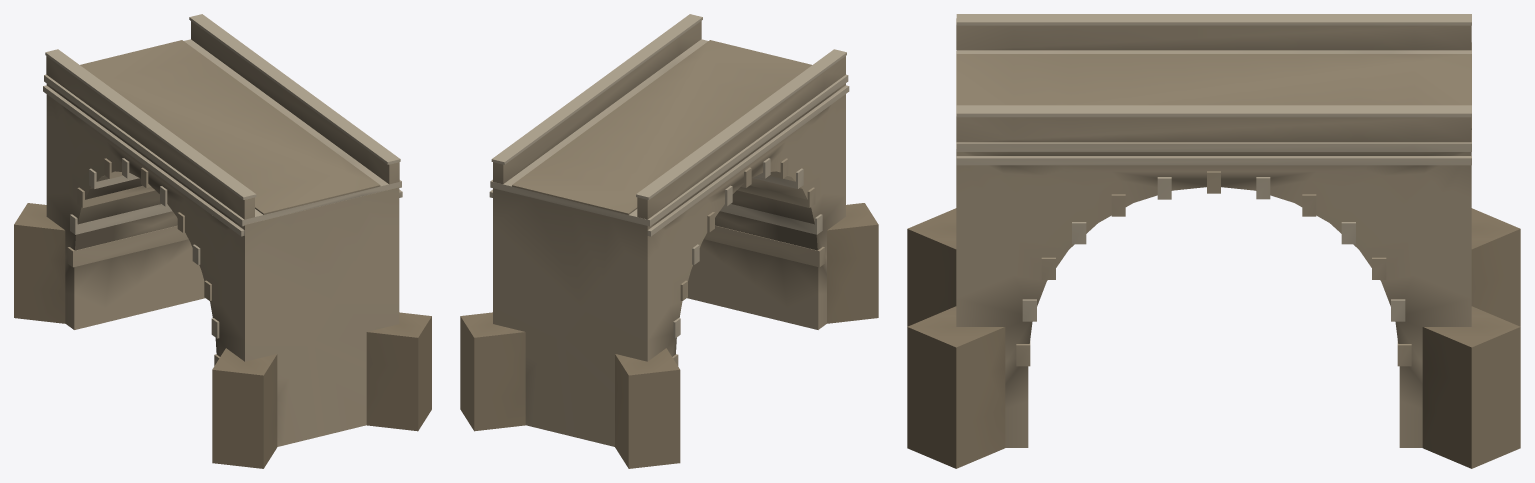
Rendered from bridge-arch.glb.
3 views of the same model, side by side, from view 1: azimuth 30°, elevation 25°; view 2: azimuth 150°, elevation 25°; view 3: azimuth 270°, elevation 25° (orthographic). The views are drawn at different scales.
Parts seen in each view (by area): view 1: base; view 2: base; view 3: base.
Boxes of the visible parts, <box> form: base: <box>14,14,431,468</box>; base: <box>460,14,878,468</box>; base: <box>907,14,1520,468</box>.
Bounding box in the file's own units: 12.8 × 14.36 × 23.8.
